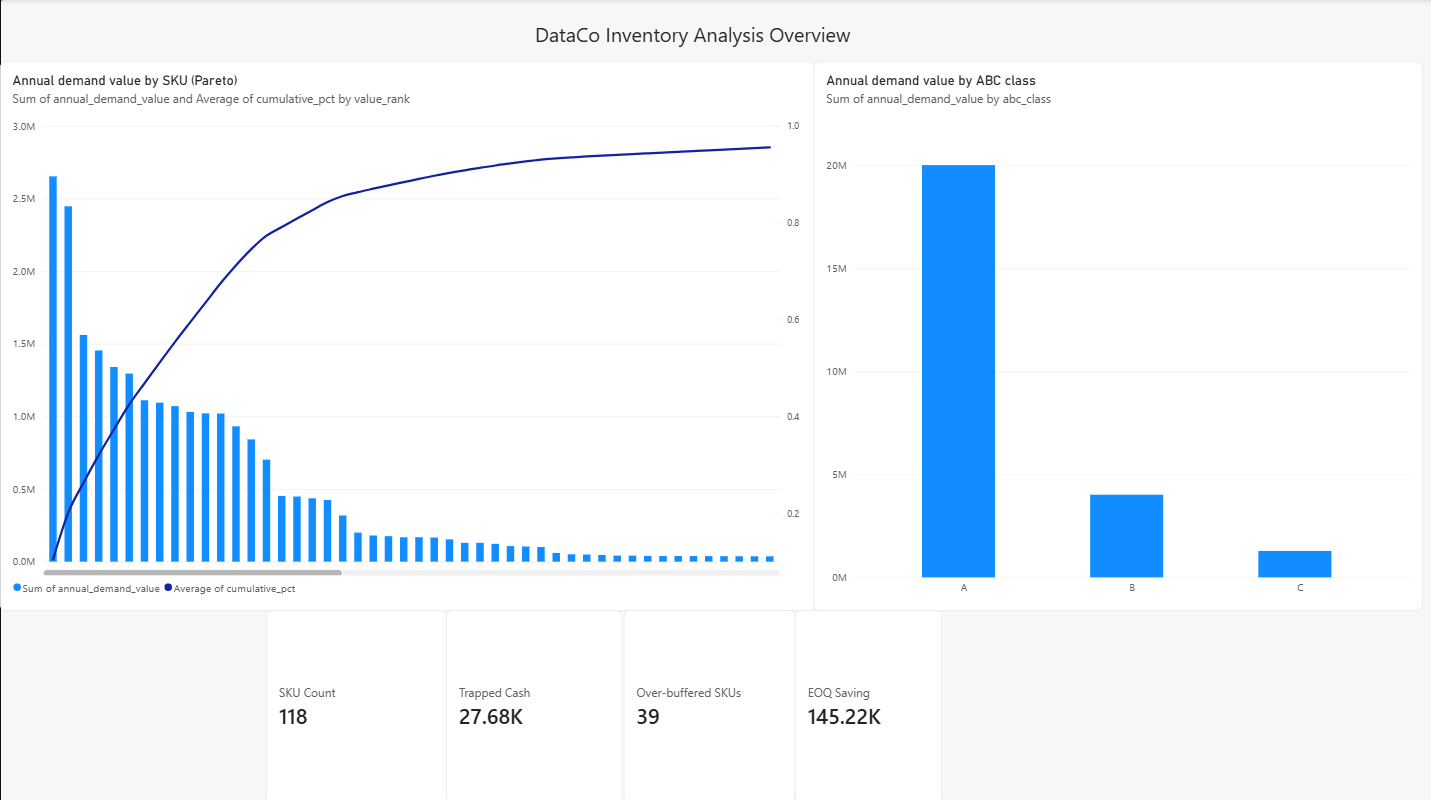

The page's visual inventory and layout, read from the dashboard file:
{"tool":"powerbi","page":{"name":"Overview","canvas":[1920,1080],"ordinal":0},"visuals":[{"type":"cardVisual","fields":{"Data":["sku_metrics.Trapped Cash"]},"box":[598.8,819.7,236.4,259.7],"z":0},{"type":"cardVisual","fields":{"Data":["sku_metrics.SKU Count"]},"box":[356.6,819.7,242.2,259.7],"z":1000},{"type":"cardVisual","fields":{"Data":["sku_metrics.Over-buffered SKUs"]},"box":[835.2,819.7,230.6,259.7],"z":2000},{"type":"cardVisual","fields":{"Data":["sku_metrics.EOQ Saving"]},"box":[1065.8,819.7,197.7,259.7],"z":3000},{"type":"lineStackedColumnComboChart","title":"Annual demand value by SKU (Pareto)","fields":{"Category":["sku_metrics.value_rank"],"Y":["Sum(sku_metrics.annual_demand_value)"],"Y2":["Avg(sku_metrics.cumulative_pct)"]},"box":[0,83.3,1091,736.4],"z":4000},{"type":"clusteredColumnChart","title":"Annual demand value by ABC class","fields":{"Category":["sku_metrics.abc_class"],"Y":["Sum(sku_metrics.annual_demand_value)"]},"box":[1091,83.3,815.8,736.4],"z":5000},{"type":"textbox","box":[716.9,28.8,443.6,55.1],"z":6000}]}

Visuals, with their boxes in screenshot pixels (x1, y1, x2, y2), scaled from the page's 1920x1080 canvas onto the 1431x800 screenshot:
cardVisual - sku_metrics.Trapped Cash: 446, 607, 622, 799
cardVisual - sku_metrics.SKU Count: 266, 607, 446, 799
cardVisual - sku_metrics.Over-buffered SKUs: 622, 607, 794, 799
cardVisual - sku_metrics.EOQ Saving: 794, 607, 942, 799
"Annual demand value by SKU (Pareto)" lineStackedColumnComboChart: 0, 62, 813, 607
"Annual demand value by ABC class" clusteredColumnChart: 813, 62, 1421, 607
textbox: 534, 21, 865, 62
